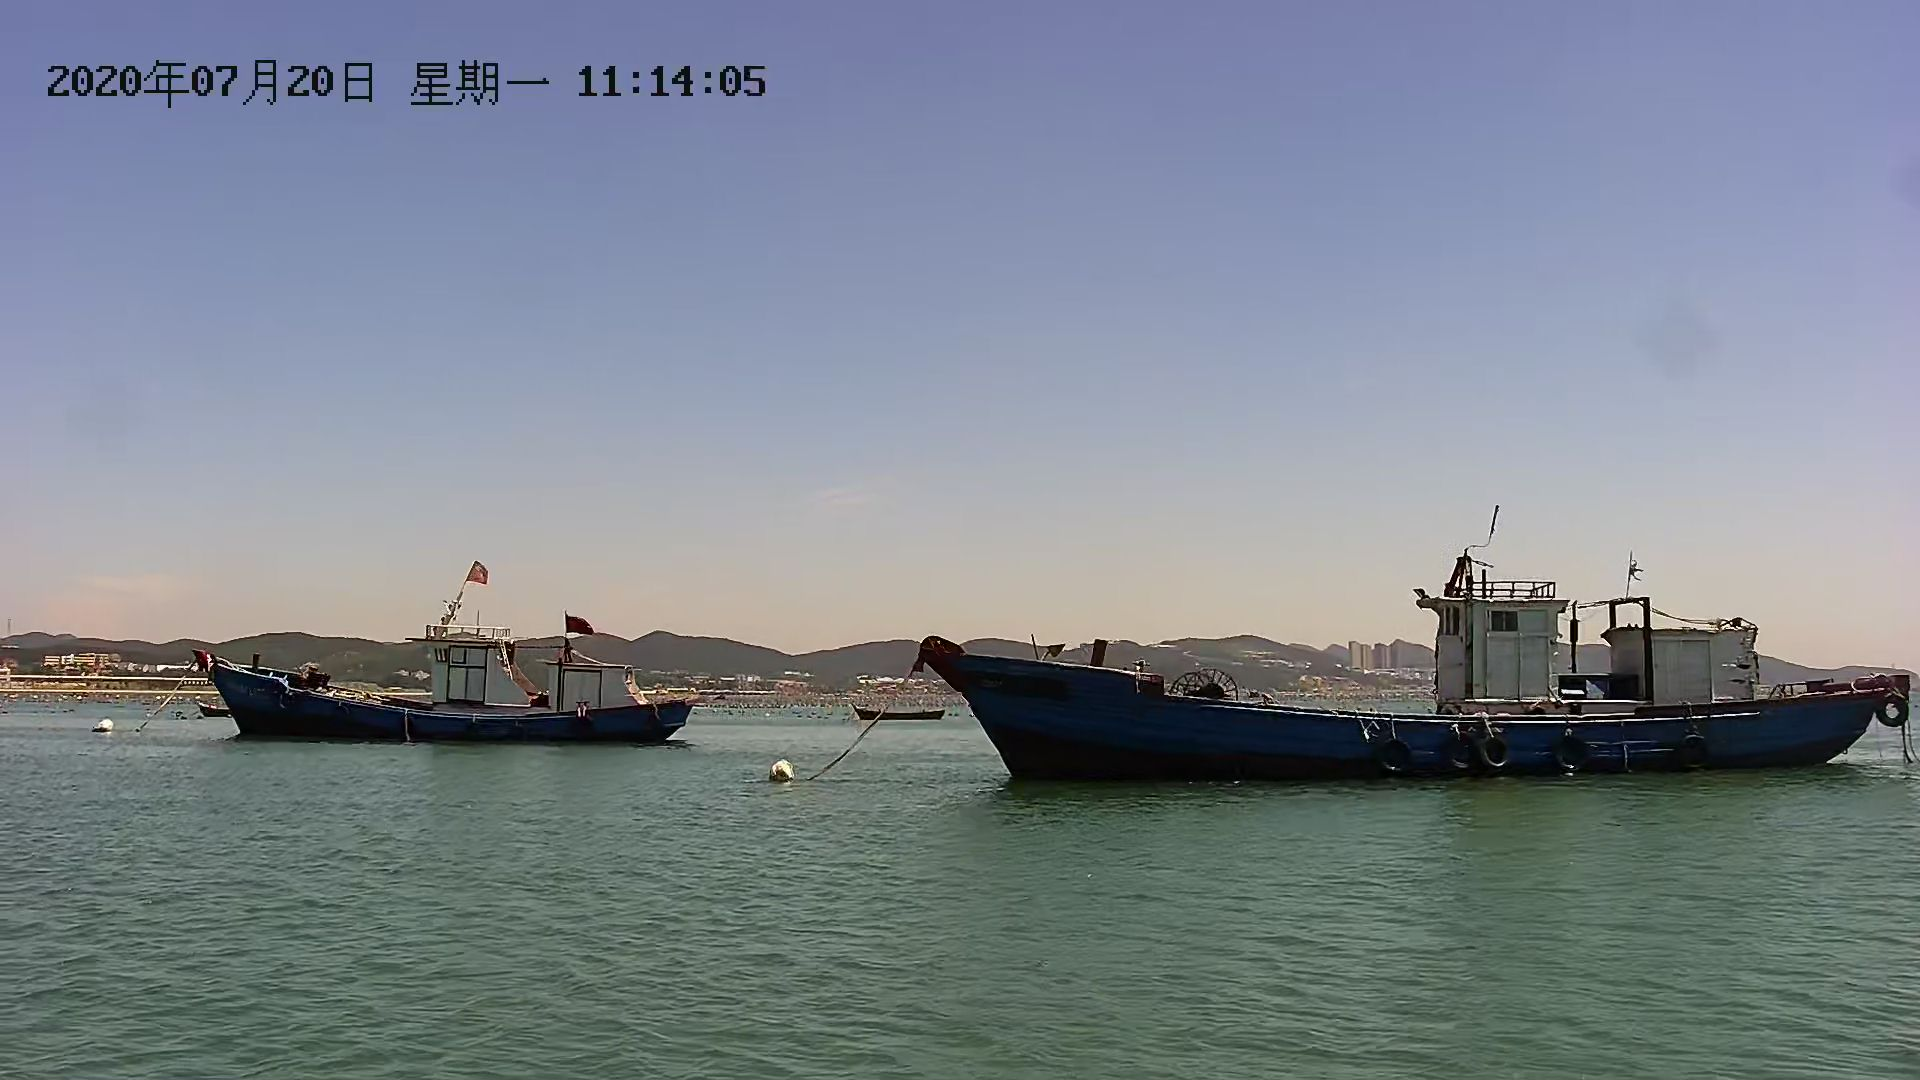ball: (760, 756, 799, 789), (94, 719, 128, 741)
boat: (909, 545, 1908, 781), (173, 607, 705, 749), (844, 709, 956, 731)
